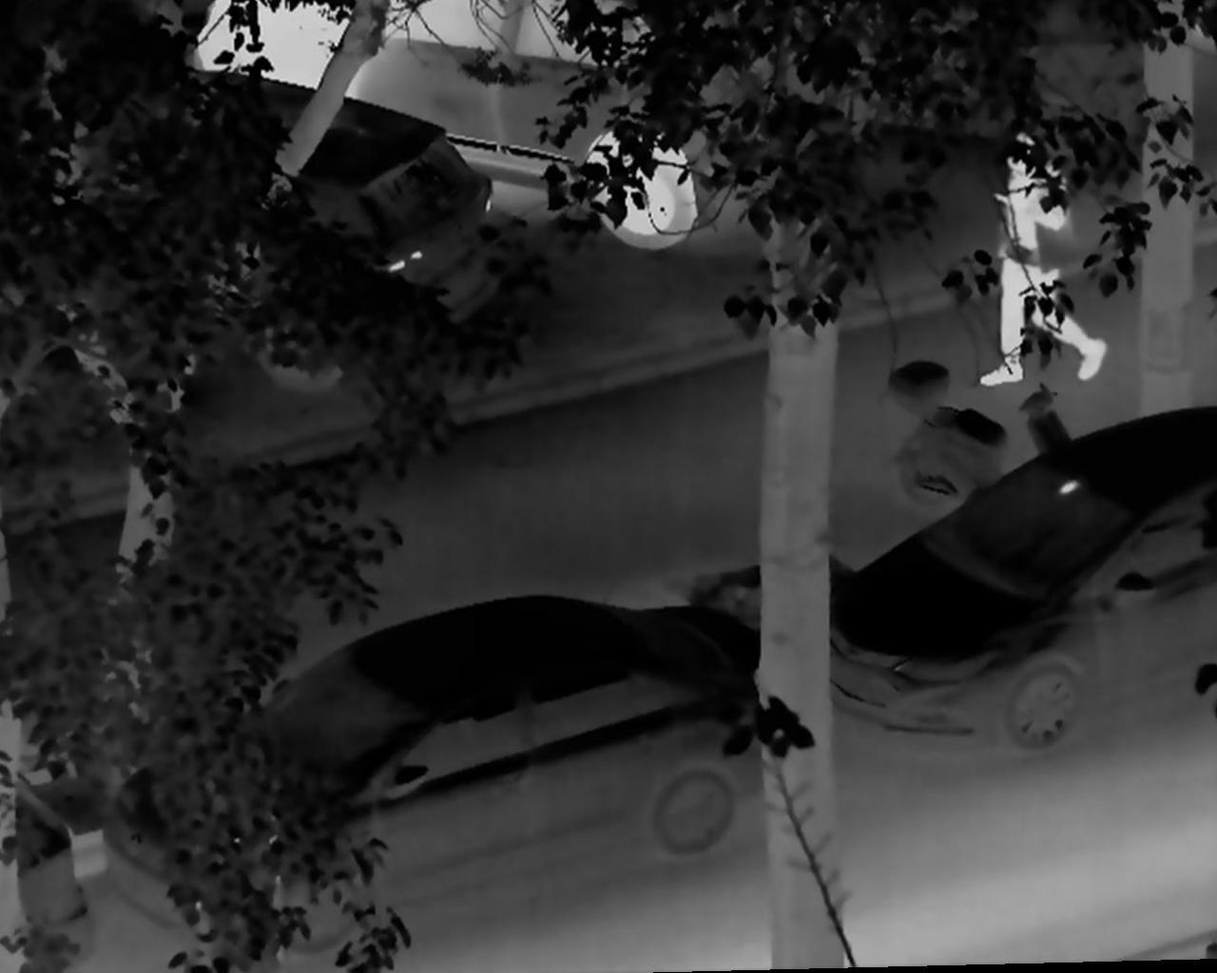person: (977, 129, 1108, 391)
